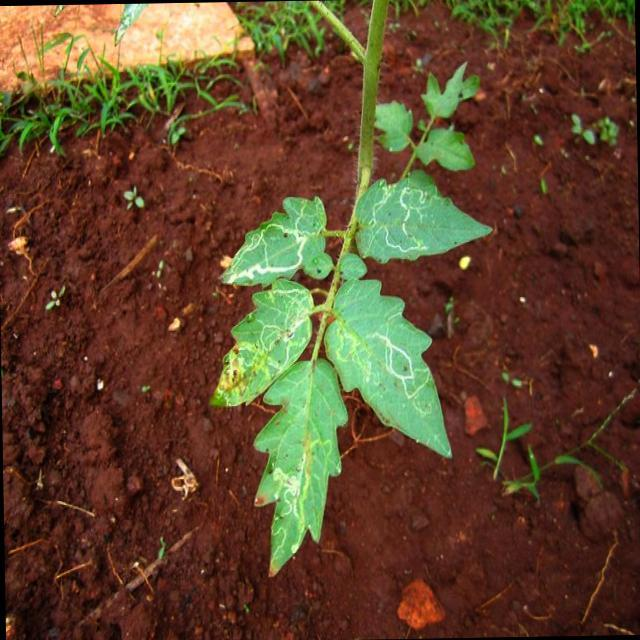Tomato target spot leaf: (322, 278, 452, 460), (252, 359, 349, 578), (210, 282, 315, 409), (351, 172, 494, 264), (219, 197, 334, 290)
